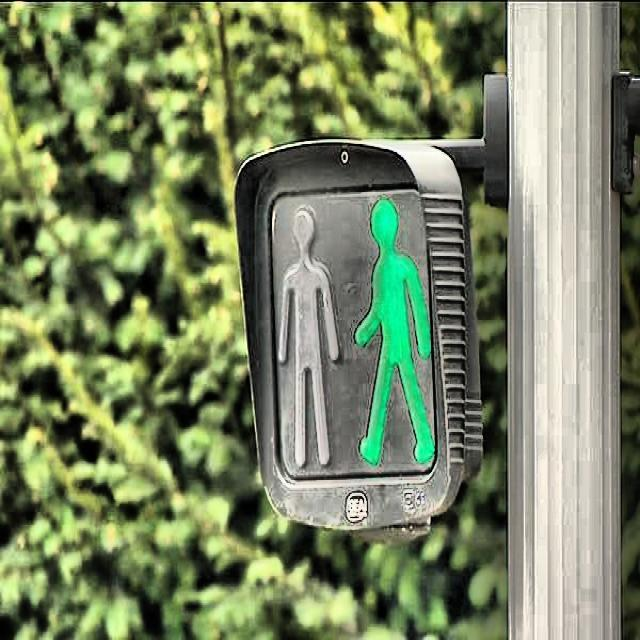green_light: (350, 190, 438, 466)
